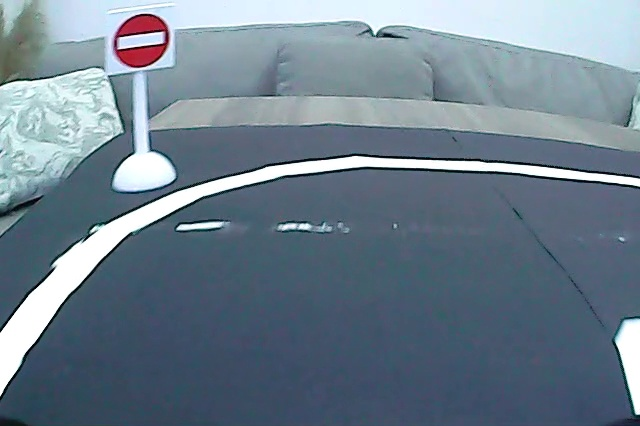do not enter: (108, 10, 172, 72)
